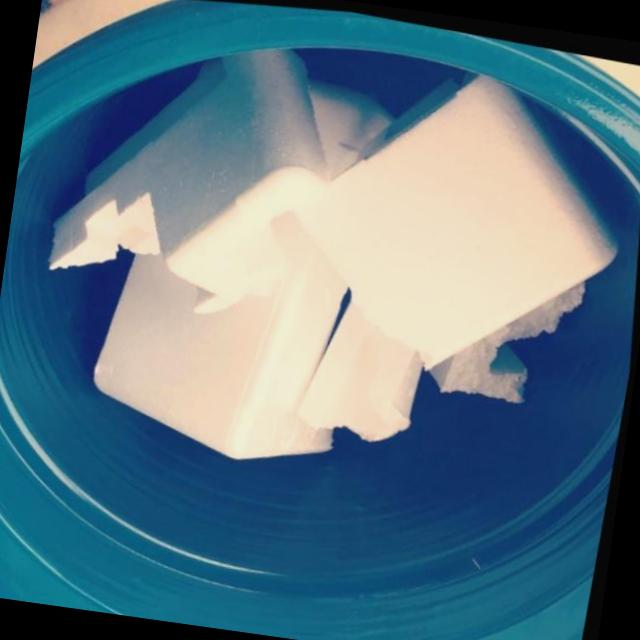xop: (300, 71, 618, 360), (50, 46, 329, 310), (97, 207, 351, 456), (432, 275, 589, 398), (299, 286, 427, 436), (310, 73, 394, 175)
